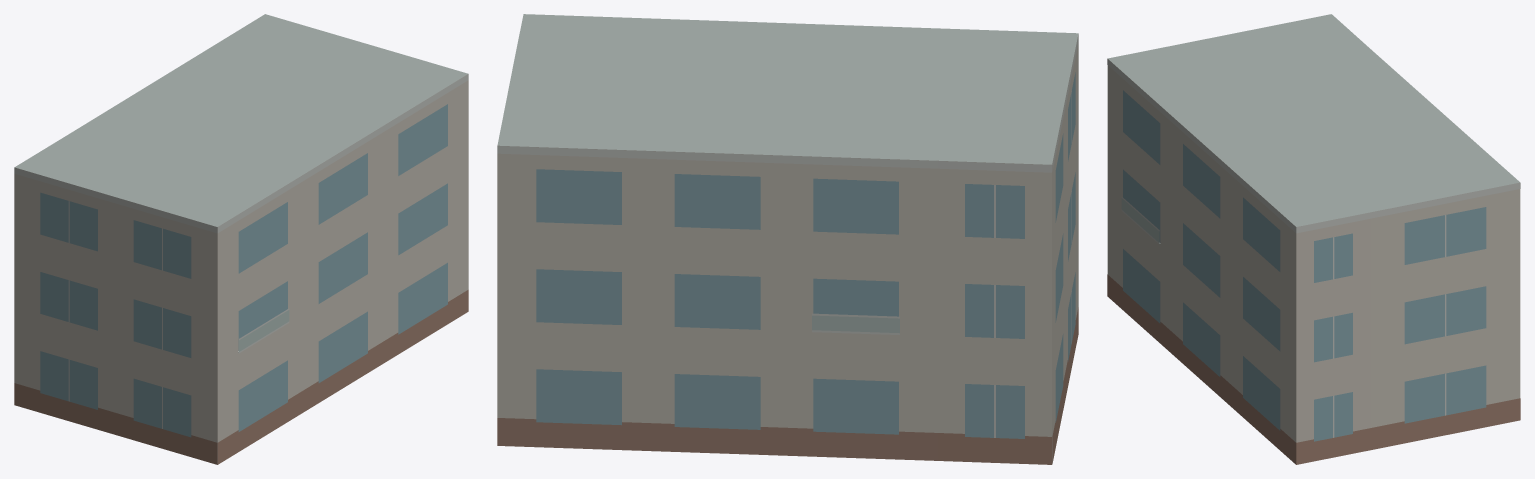
The model's file is survey-upis-32705813.glb.
3 views of the same model, side by side, from view 1: azimuth 30°, elevation 25°; view 2: azimuth 150°, elevation 25°; view 3: azimuth 270°, elevation 25° (orthographic). The views are drawn at different scales.
Visible parts, largest first — view 1: survey-upis-32705813.tmp; view 2: survey-upis-32705813.tmp; view 3: survey-upis-32705813.tmp.
Part boxes in pixels (x1,y1,x2,y2): survey-upis-32705813.tmp: (14,14,468,464); survey-upis-32705813.tmp: (497,14,1078,464); survey-upis-32705813.tmp: (1107,14,1520,464).
Size of the model in its own units: 17.59 by 9.15 by 14.41.
